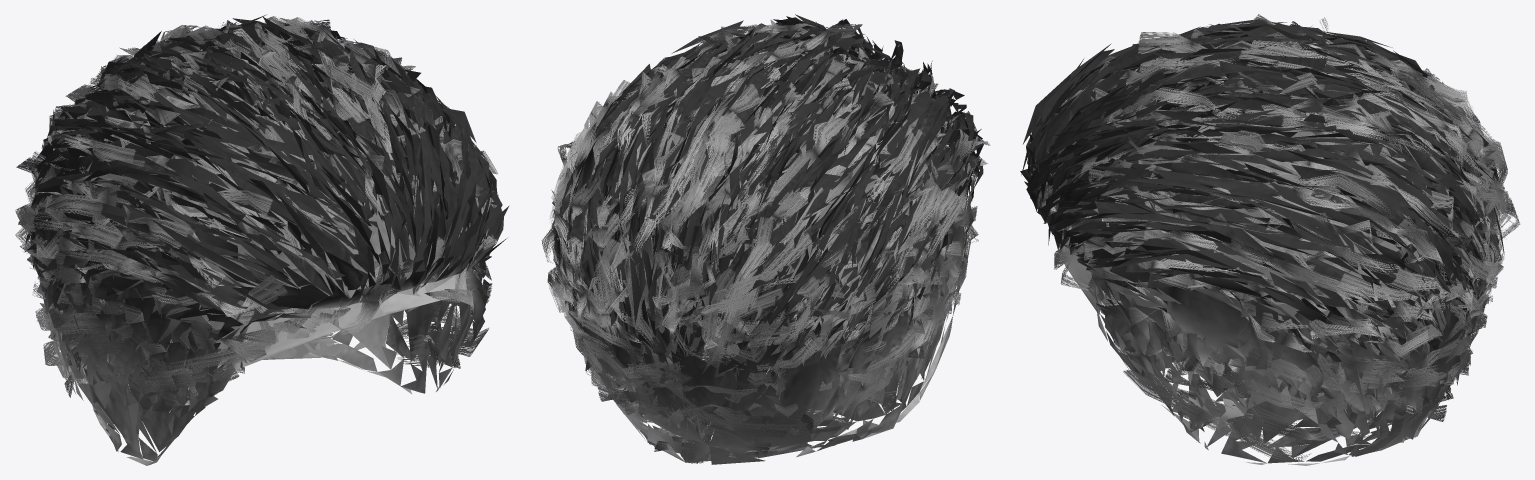
The model's file is hair_slick.glb.
3 views of the same model, side by side, from view 1: azimuth 30°, elevation 25°; view 2: azimuth 150°, elevation 25°; view 3: azimuth 270°, elevation 25° (orthographic). The views are drawn at different scales.
Parts seen in each view (by area): view 1: Mesh_0, haircards; view 2: Mesh_0, haircards; view 3: Mesh_0, haircards.
Part boxes in pixels (x1,y1,x2,y2): Mesh_0: (24, 14, 509, 465); haircards: (15, 16, 497, 405); Mesh_0: (551, 14, 983, 464); haircards: (541, 19, 990, 463); Mesh_0: (1020, 19, 1504, 465); haircards: (1031, 14, 1520, 461).
Bounding box in the file's own units: 0.2129 × 0.2048 × 0.2471.
2 materials, 2 textured.
